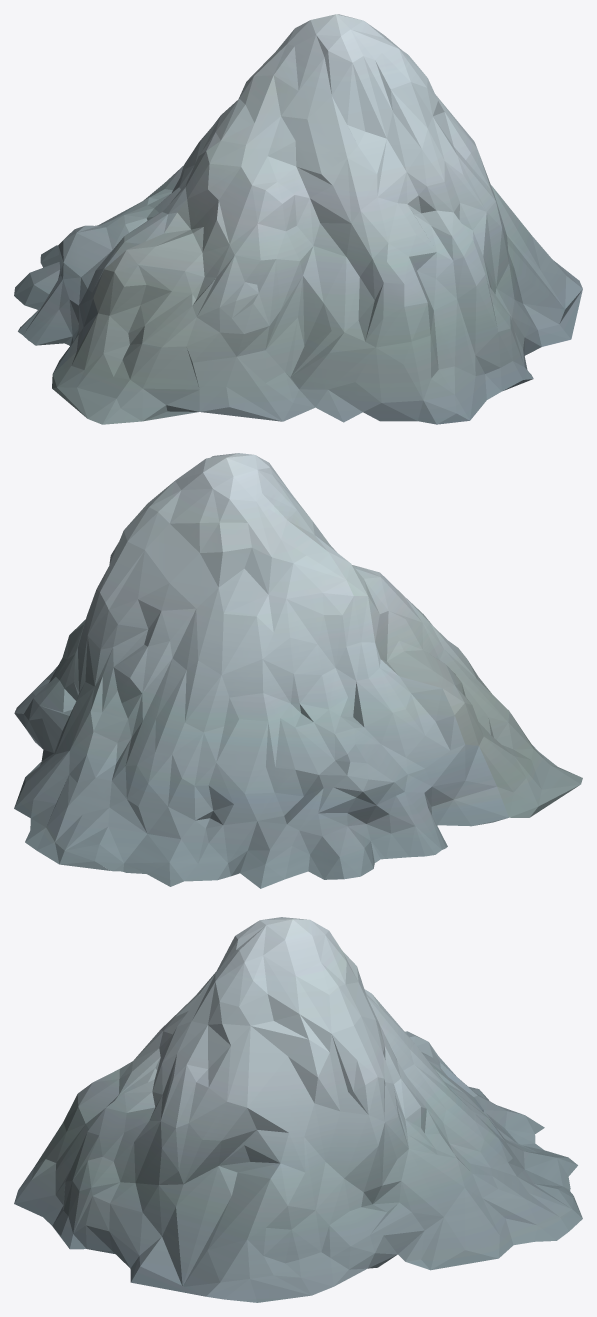
The model's file is mountain.glb.
3 views of the same model, one above another, from view 1: azimuth 30°, elevation 25°; view 2: azimuth 150°, elevation 25°; view 3: azimuth 270°, elevation 25° (orthographic). The views are drawn at different scales.
Visible parts, largest first — view 1: node_Mountain3_-1129440; view 2: node_Mountain3_-1129440; view 3: node_Mountain3_-1129440.
Boxes of the visible parts, x1=… form: node_Mountain3_-1129440: x1=14, y1=14, x2=582, y2=424; node_Mountain3_-1129440: x1=14, y1=453, x2=582, y2=888; node_Mountain3_-1129440: x1=14, y1=917, x2=582, y2=1302.
Size of the model in its own units: 116 by 65.54 by 116.
Materials: 1 (1 with a texture image).
